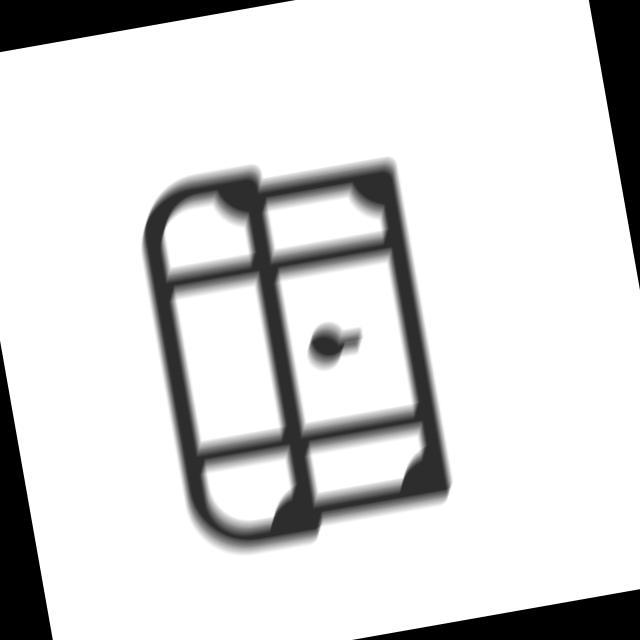treasure_box: (120, 132, 466, 573)
